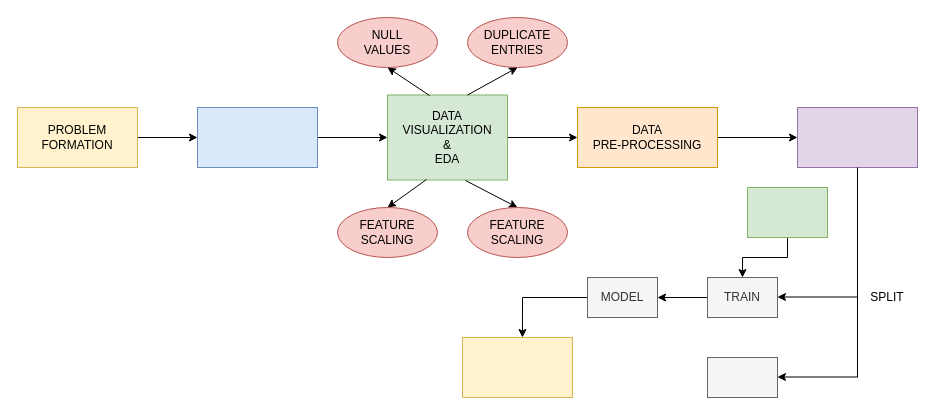
Image size: 935x415. Some labels were removed from this diagram. The shapes that lost their labels are listed below. From the top down, each one's box as (x1, y1, x2, y2) in pixels, then its label:
(196, 106, 318, 168): DATASET ACQUISITION
(796, 106, 918, 168): FEATURE SELECTION
(746, 186, 828, 238): ML Algorithm
(462, 336, 572, 398): PREDICTION EVALUATION
(706, 356, 778, 398): TEST
